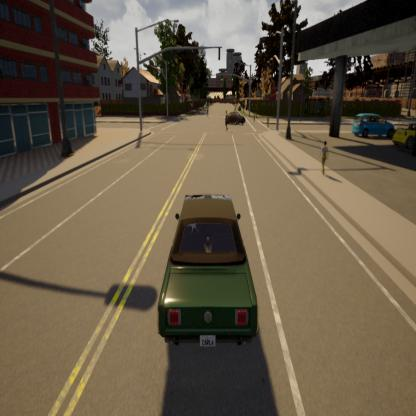Cars: (140, 180, 278, 359), (351, 97, 398, 144), (222, 103, 252, 134)
Pedestrian: (321, 124, 332, 188), (224, 107, 230, 137)
